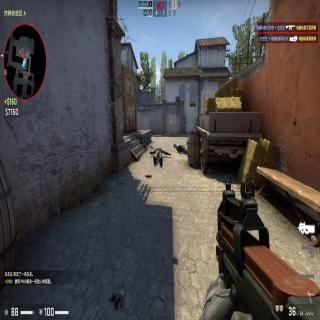T-Head: (173, 142, 177, 148)
